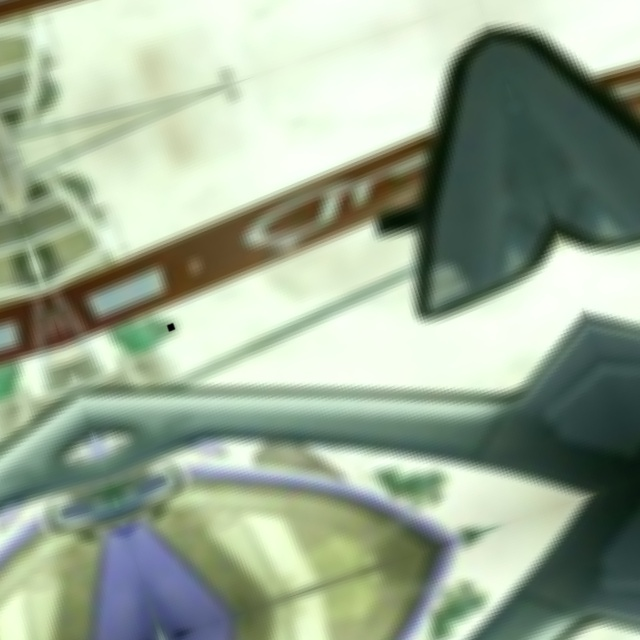ISA: (227, 140, 450, 268), (602, 14, 640, 142)
